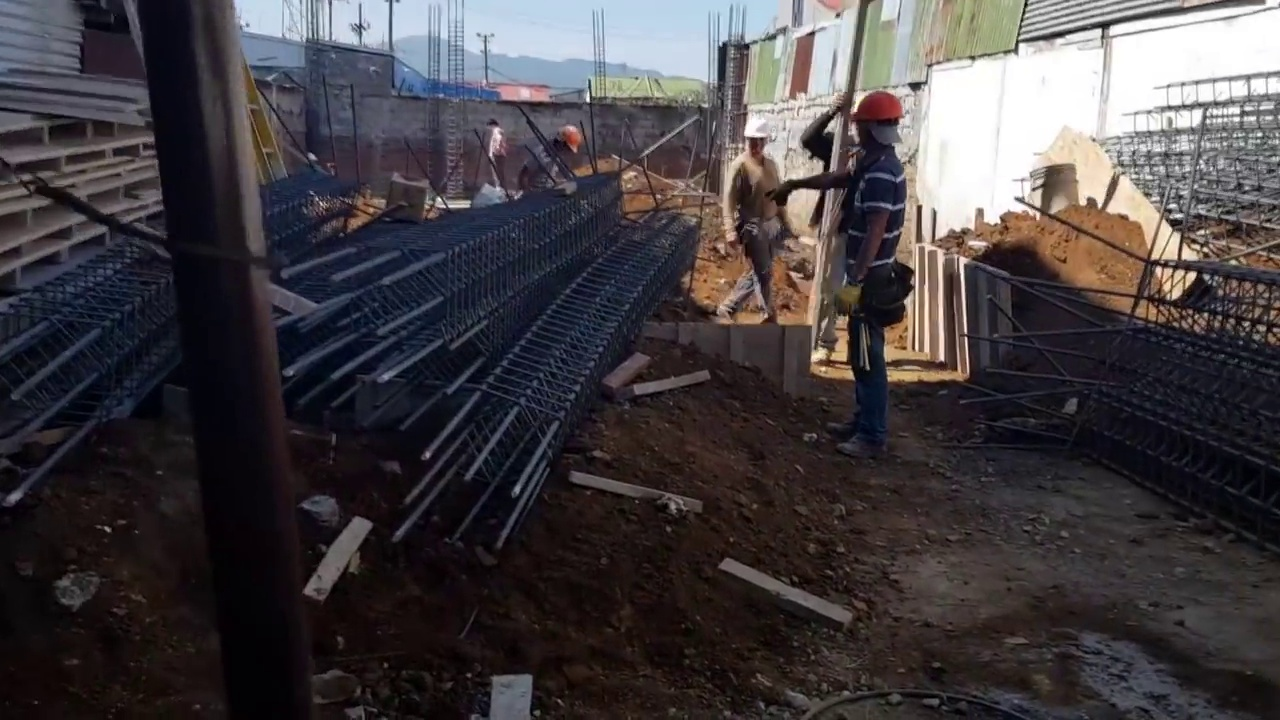helmet: (852, 88, 910, 125), (558, 126, 583, 156), (743, 119, 773, 142)
helmet-off: (485, 118, 499, 131)
helmet-on: (852, 89, 911, 160), (739, 114, 779, 161), (553, 126, 582, 156)
person: (827, 87, 914, 456), (716, 113, 794, 323), (767, 80, 860, 239), (519, 125, 583, 199), (486, 118, 508, 195)
